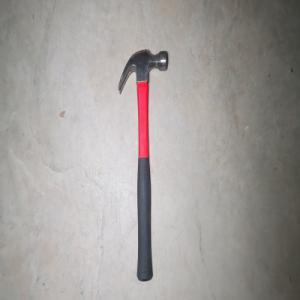Hammer: (117, 48, 167, 283)
